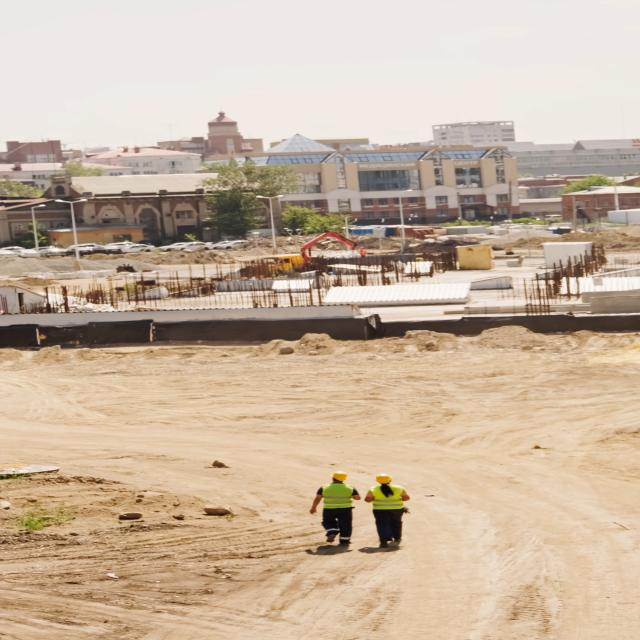worker: (314, 470, 357, 547), (372, 472, 410, 549)
